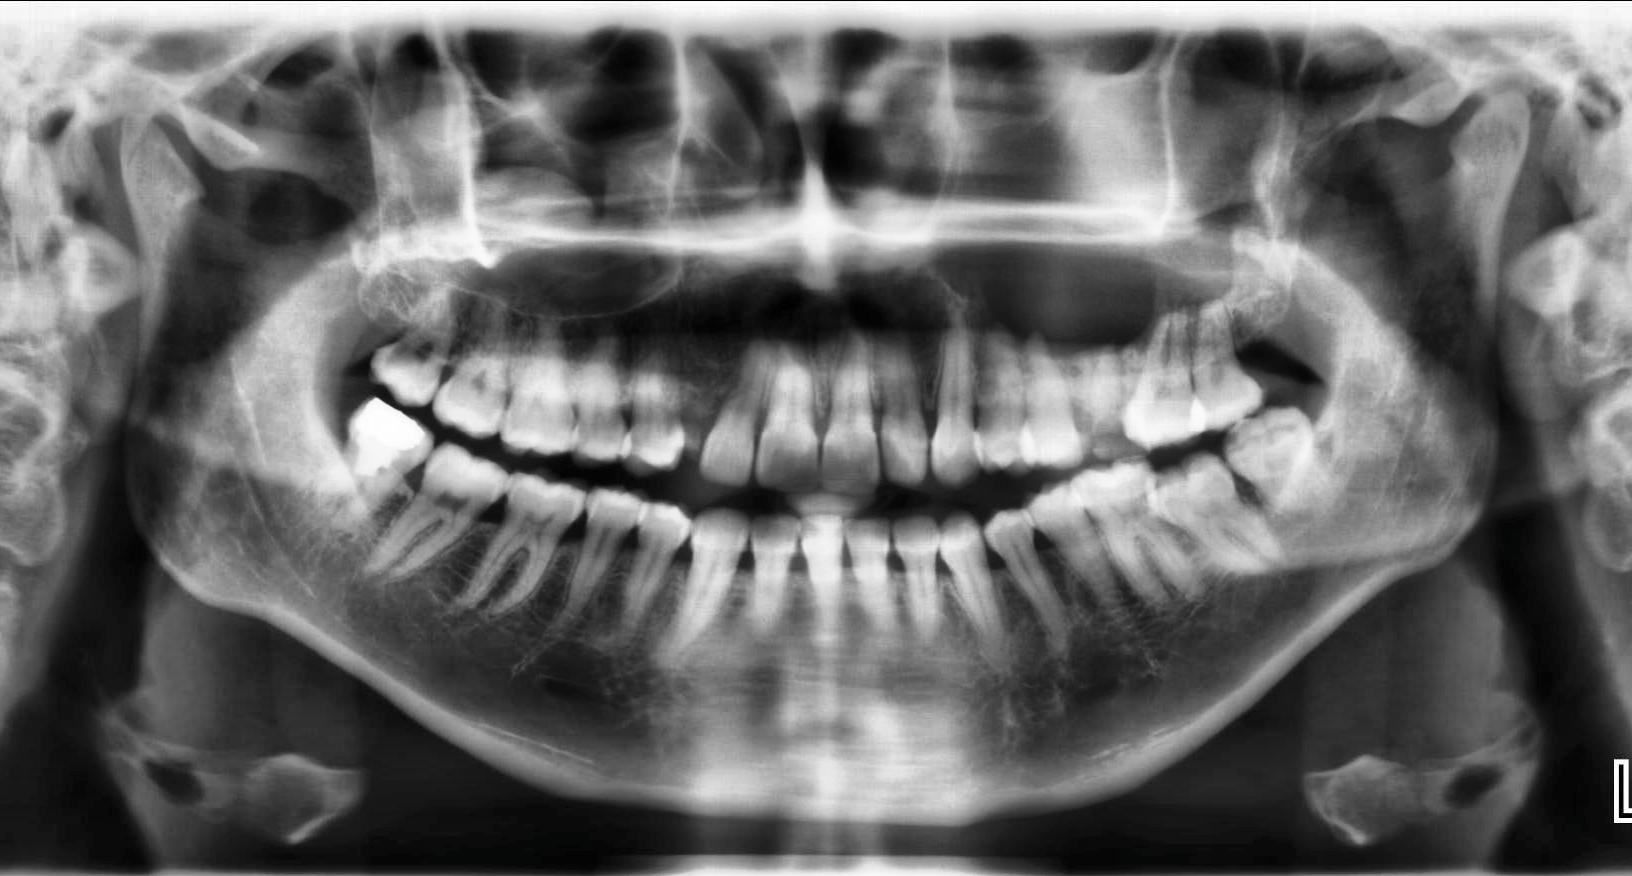radikuler: (921, 122, 1159, 361)
